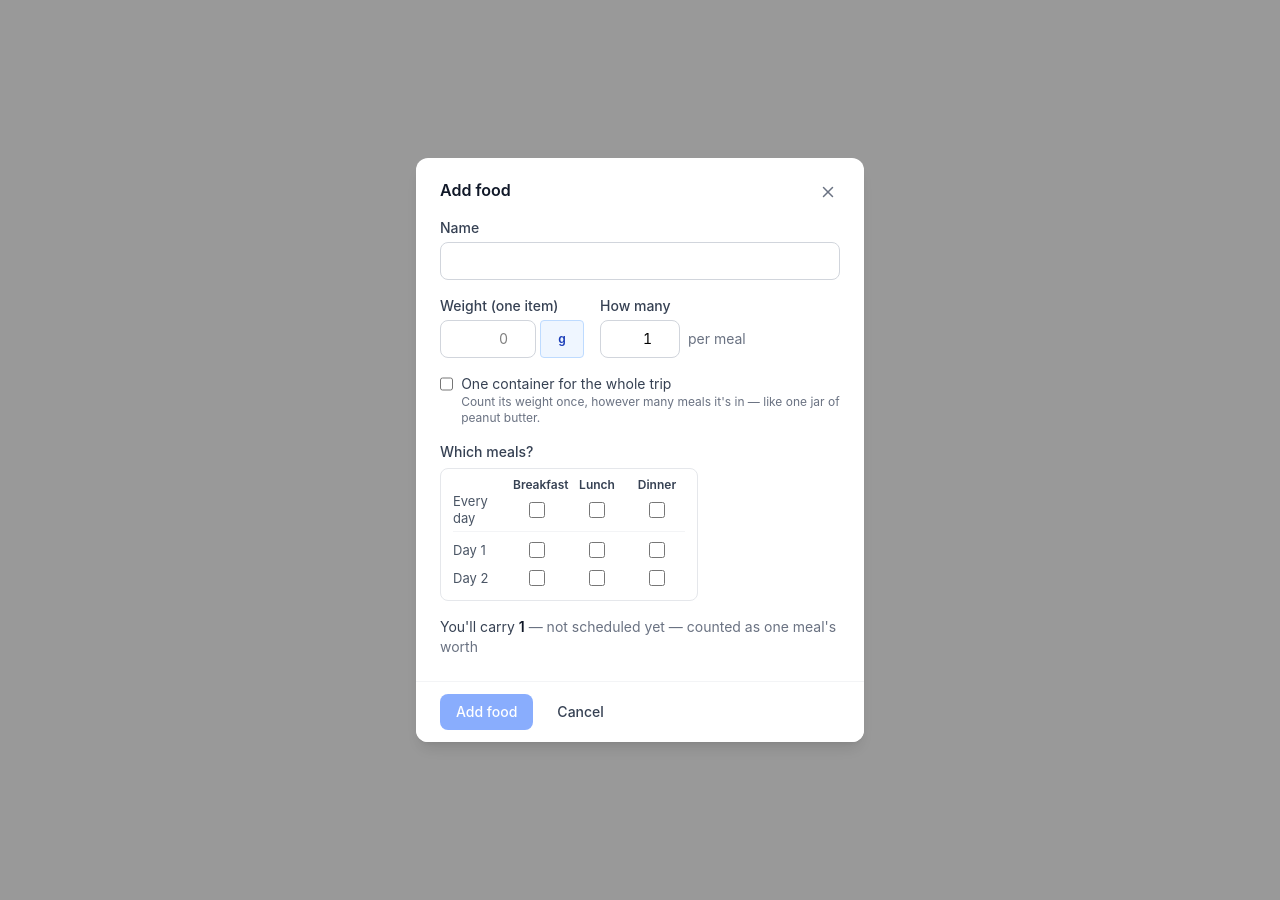
Test: add mode › the "Every day" checkbox selects and clears a whole meal column
Step 1. Type "Oatmeal" into the field labelled "Name" → (640,261), box [440, 242, 840, 280]
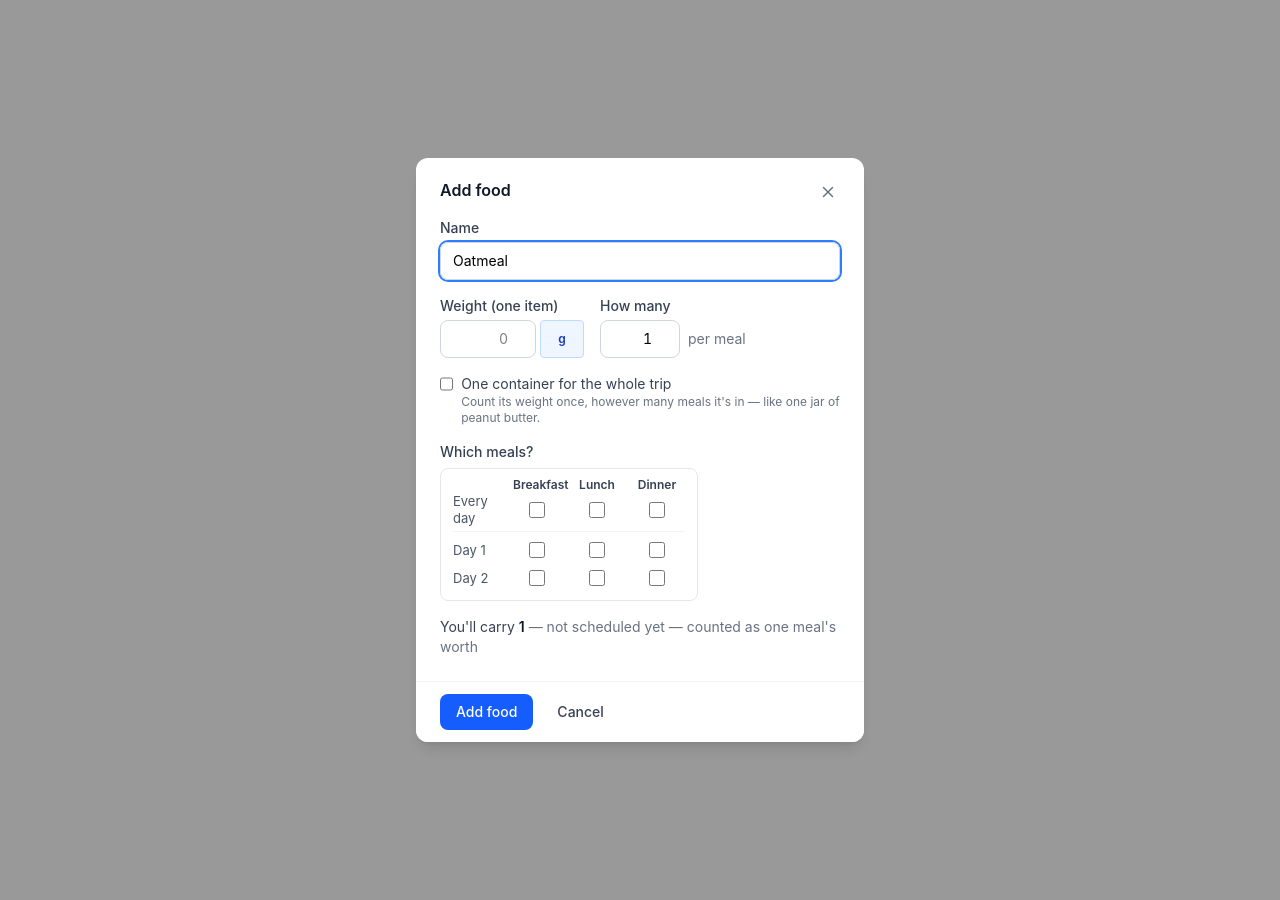
Step 2. Click the checkbox named "Every lunch" → (597,510), box [589, 502, 605, 518]
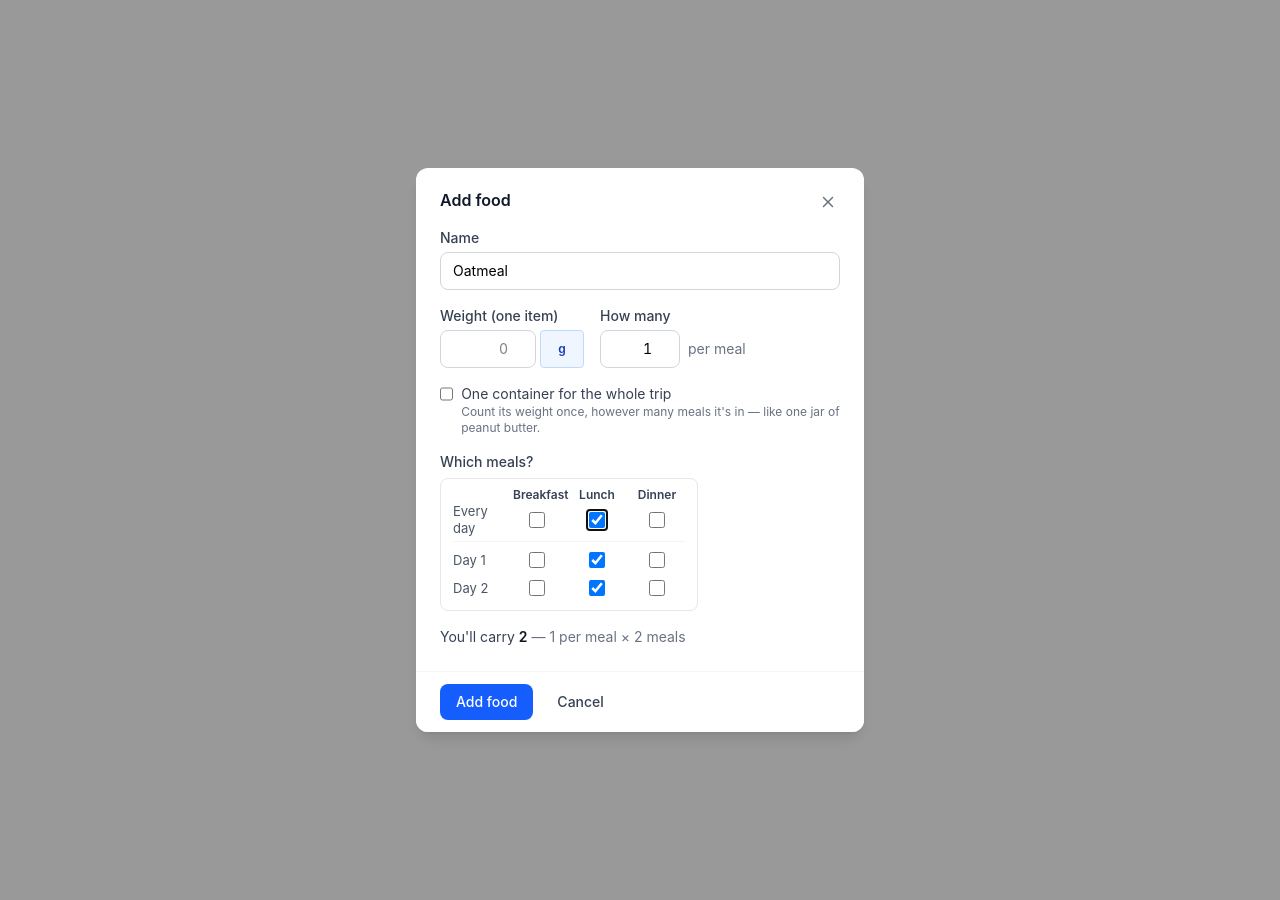
Result: the checkbox named "Lunch day 1" is checked at [589, 552, 605, 568]
Result: the checkbox named "Lunch day 2" is checked at [589, 580, 605, 596]
Step 3. Click the button "Add food" → (487,702), box [440, 684, 533, 720]
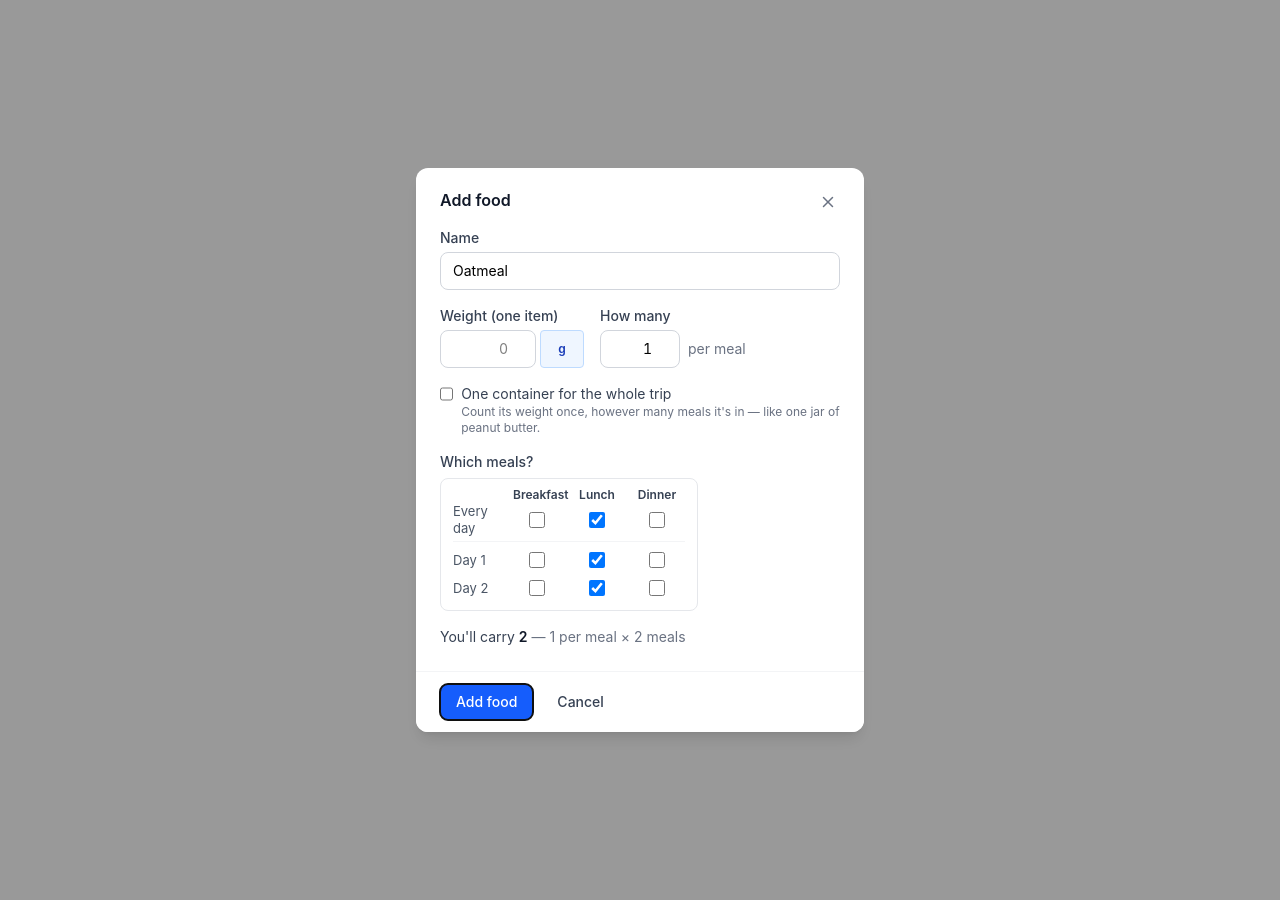
Step 4. Click the checkbox named "Every lunch" → (597,520), box [589, 512, 605, 528]
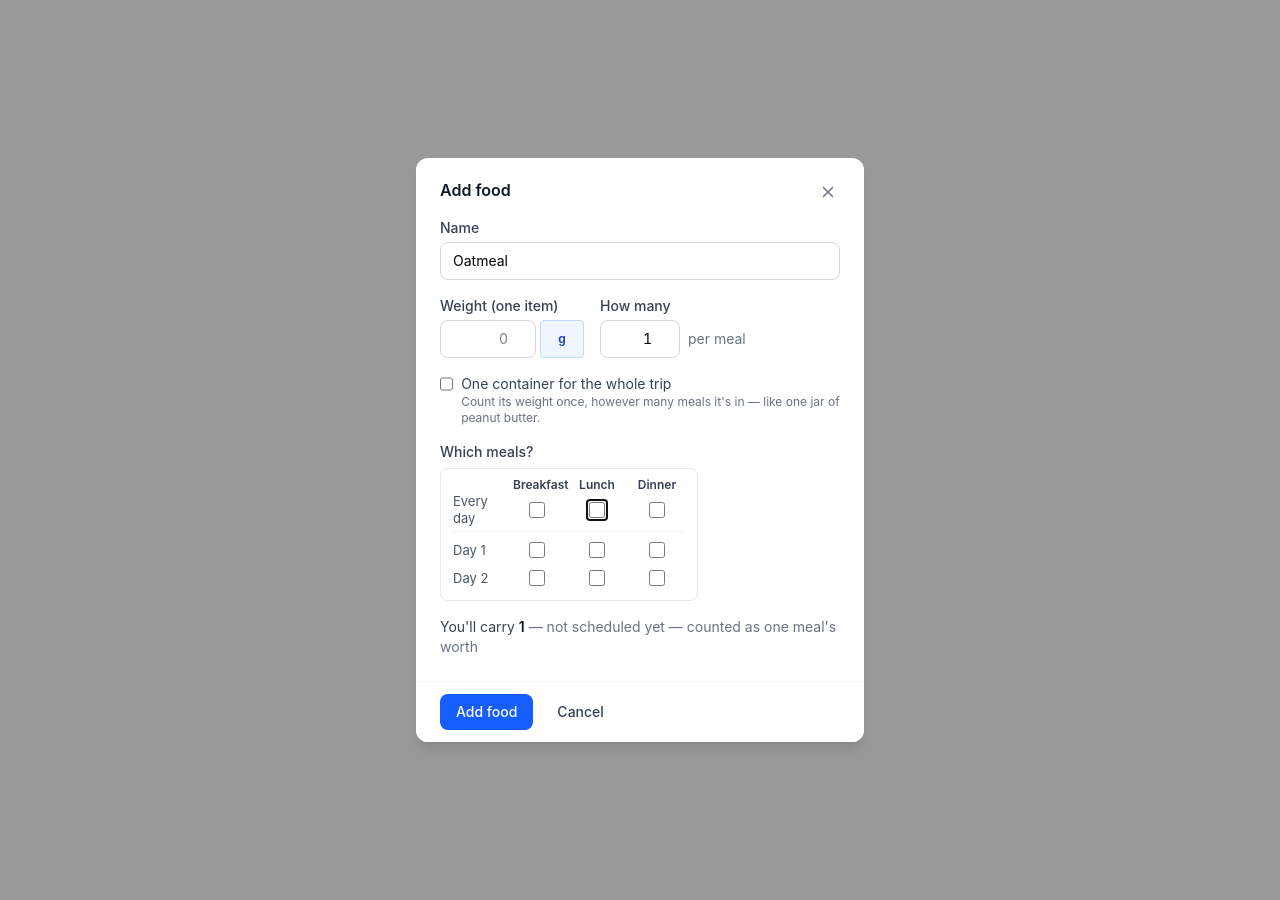
Result: the checkbox named "Lunch day 1" is not checked at [589, 542, 605, 558]
